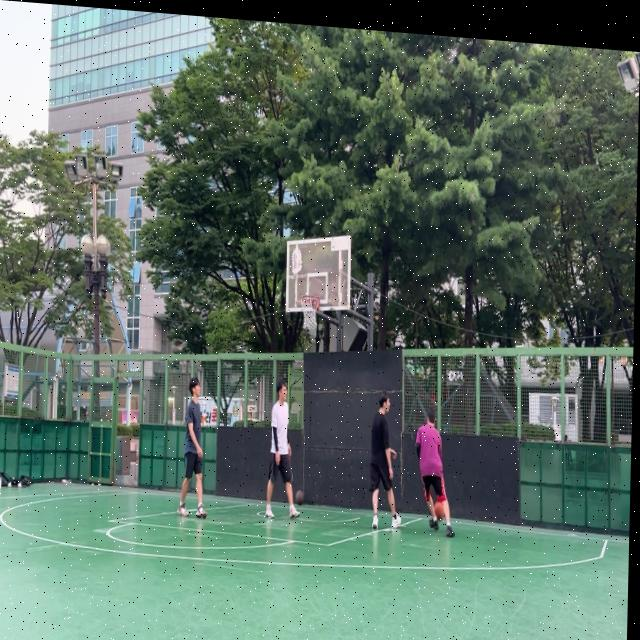basketball: (434, 500, 444, 521), (295, 489, 305, 506)
hoop: (299, 294, 320, 332)
